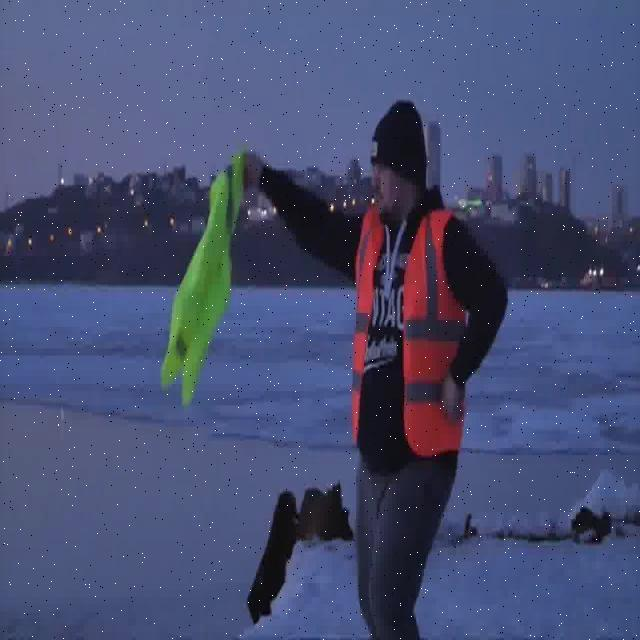Person: (243, 95, 509, 640)
Vest: (346, 202, 474, 458)
